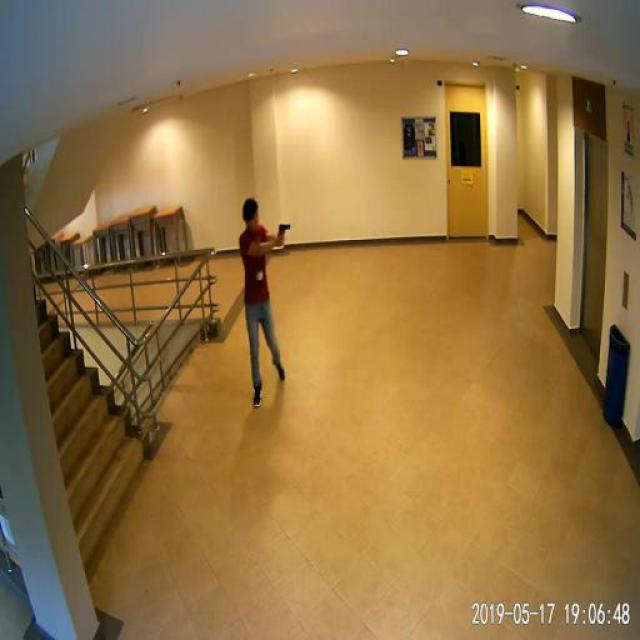weapon: (278, 224, 292, 235)
